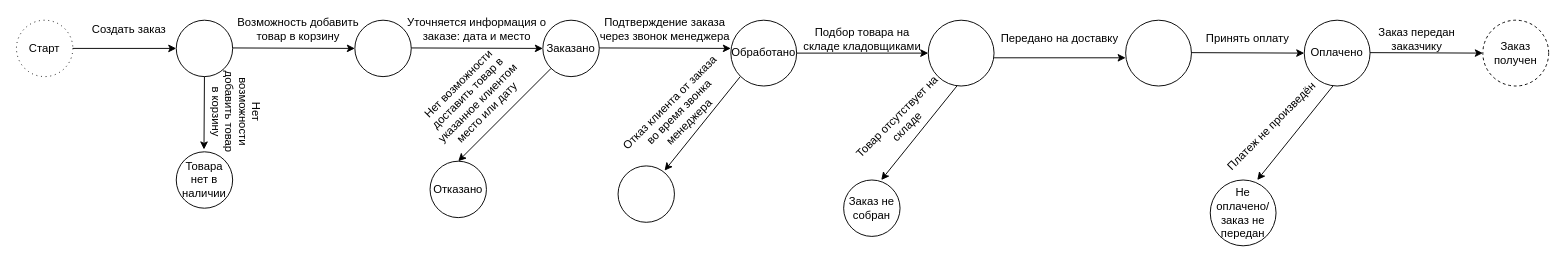
This 1565x262 diagram has some shape labels left out. The shapes that lost their labels are listed below. From the top down, each one's box as (x1, y1, x2, y2) in pixels, then its label:
(175, 19, 233, 77): Товар в наличии
(354, 19, 411, 77): Товар в корзине
(927, 19, 994, 86): Собрано
(1125, 19, 1191, 86): В пункте выдачи
(617, 165, 674, 222): Не заказано
